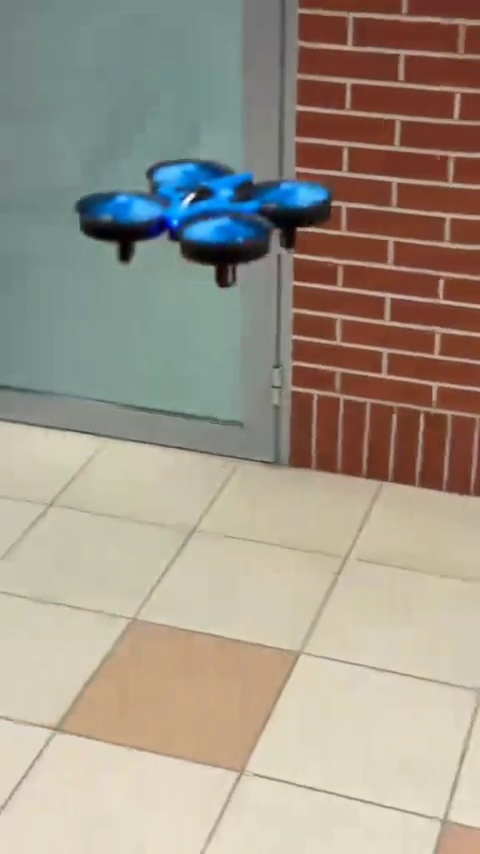drone: (74, 153, 337, 291)
